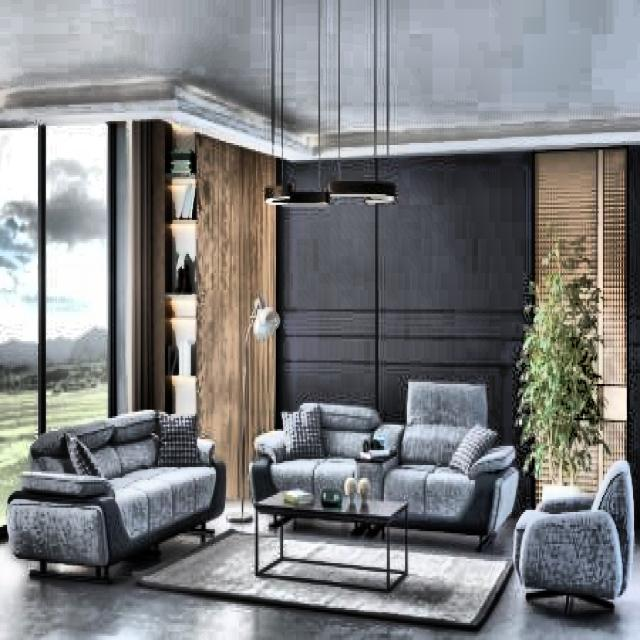sofa: (6, 406, 226, 582), (371, 378, 519, 550), (249, 399, 382, 527)
